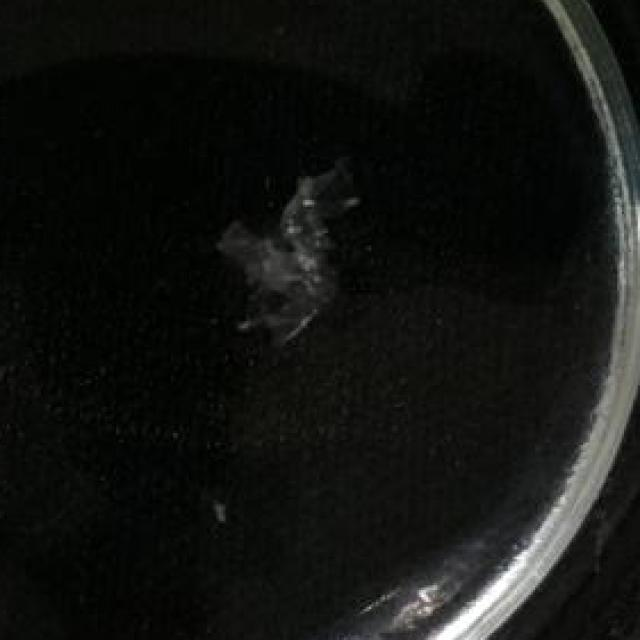Microplastic: (203, 157, 339, 345)
